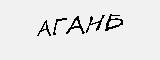А: (66, 15, 86, 37), (36, 19, 53, 37)
Б: (104, 13, 124, 33)
Г: (53, 17, 67, 35)
Н: (85, 14, 105, 35)
